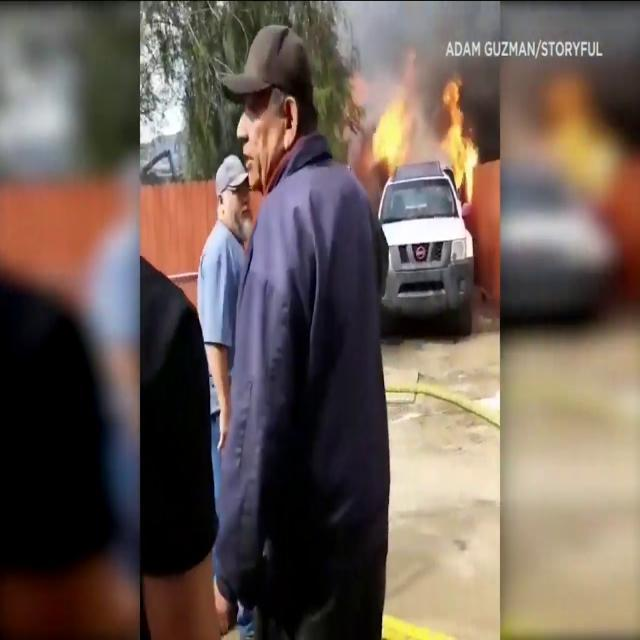Fire: (439, 74, 482, 210), (366, 85, 414, 176)
